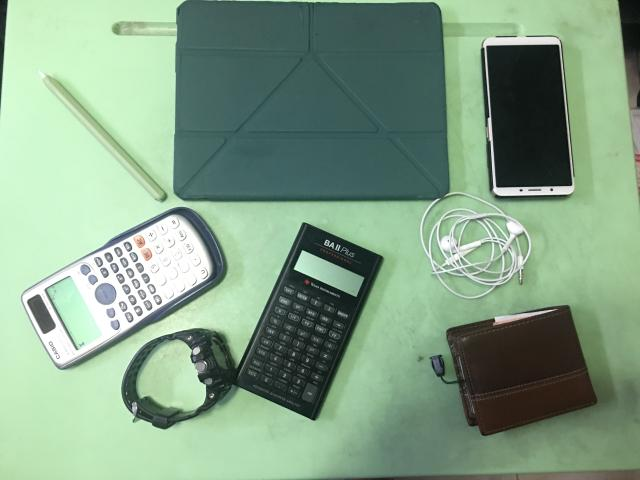Mobile phone: (481, 36, 575, 198)
Wallet: (446, 305, 596, 435)
Watch: (122, 329, 236, 429)
wire: (420, 192, 531, 299)
